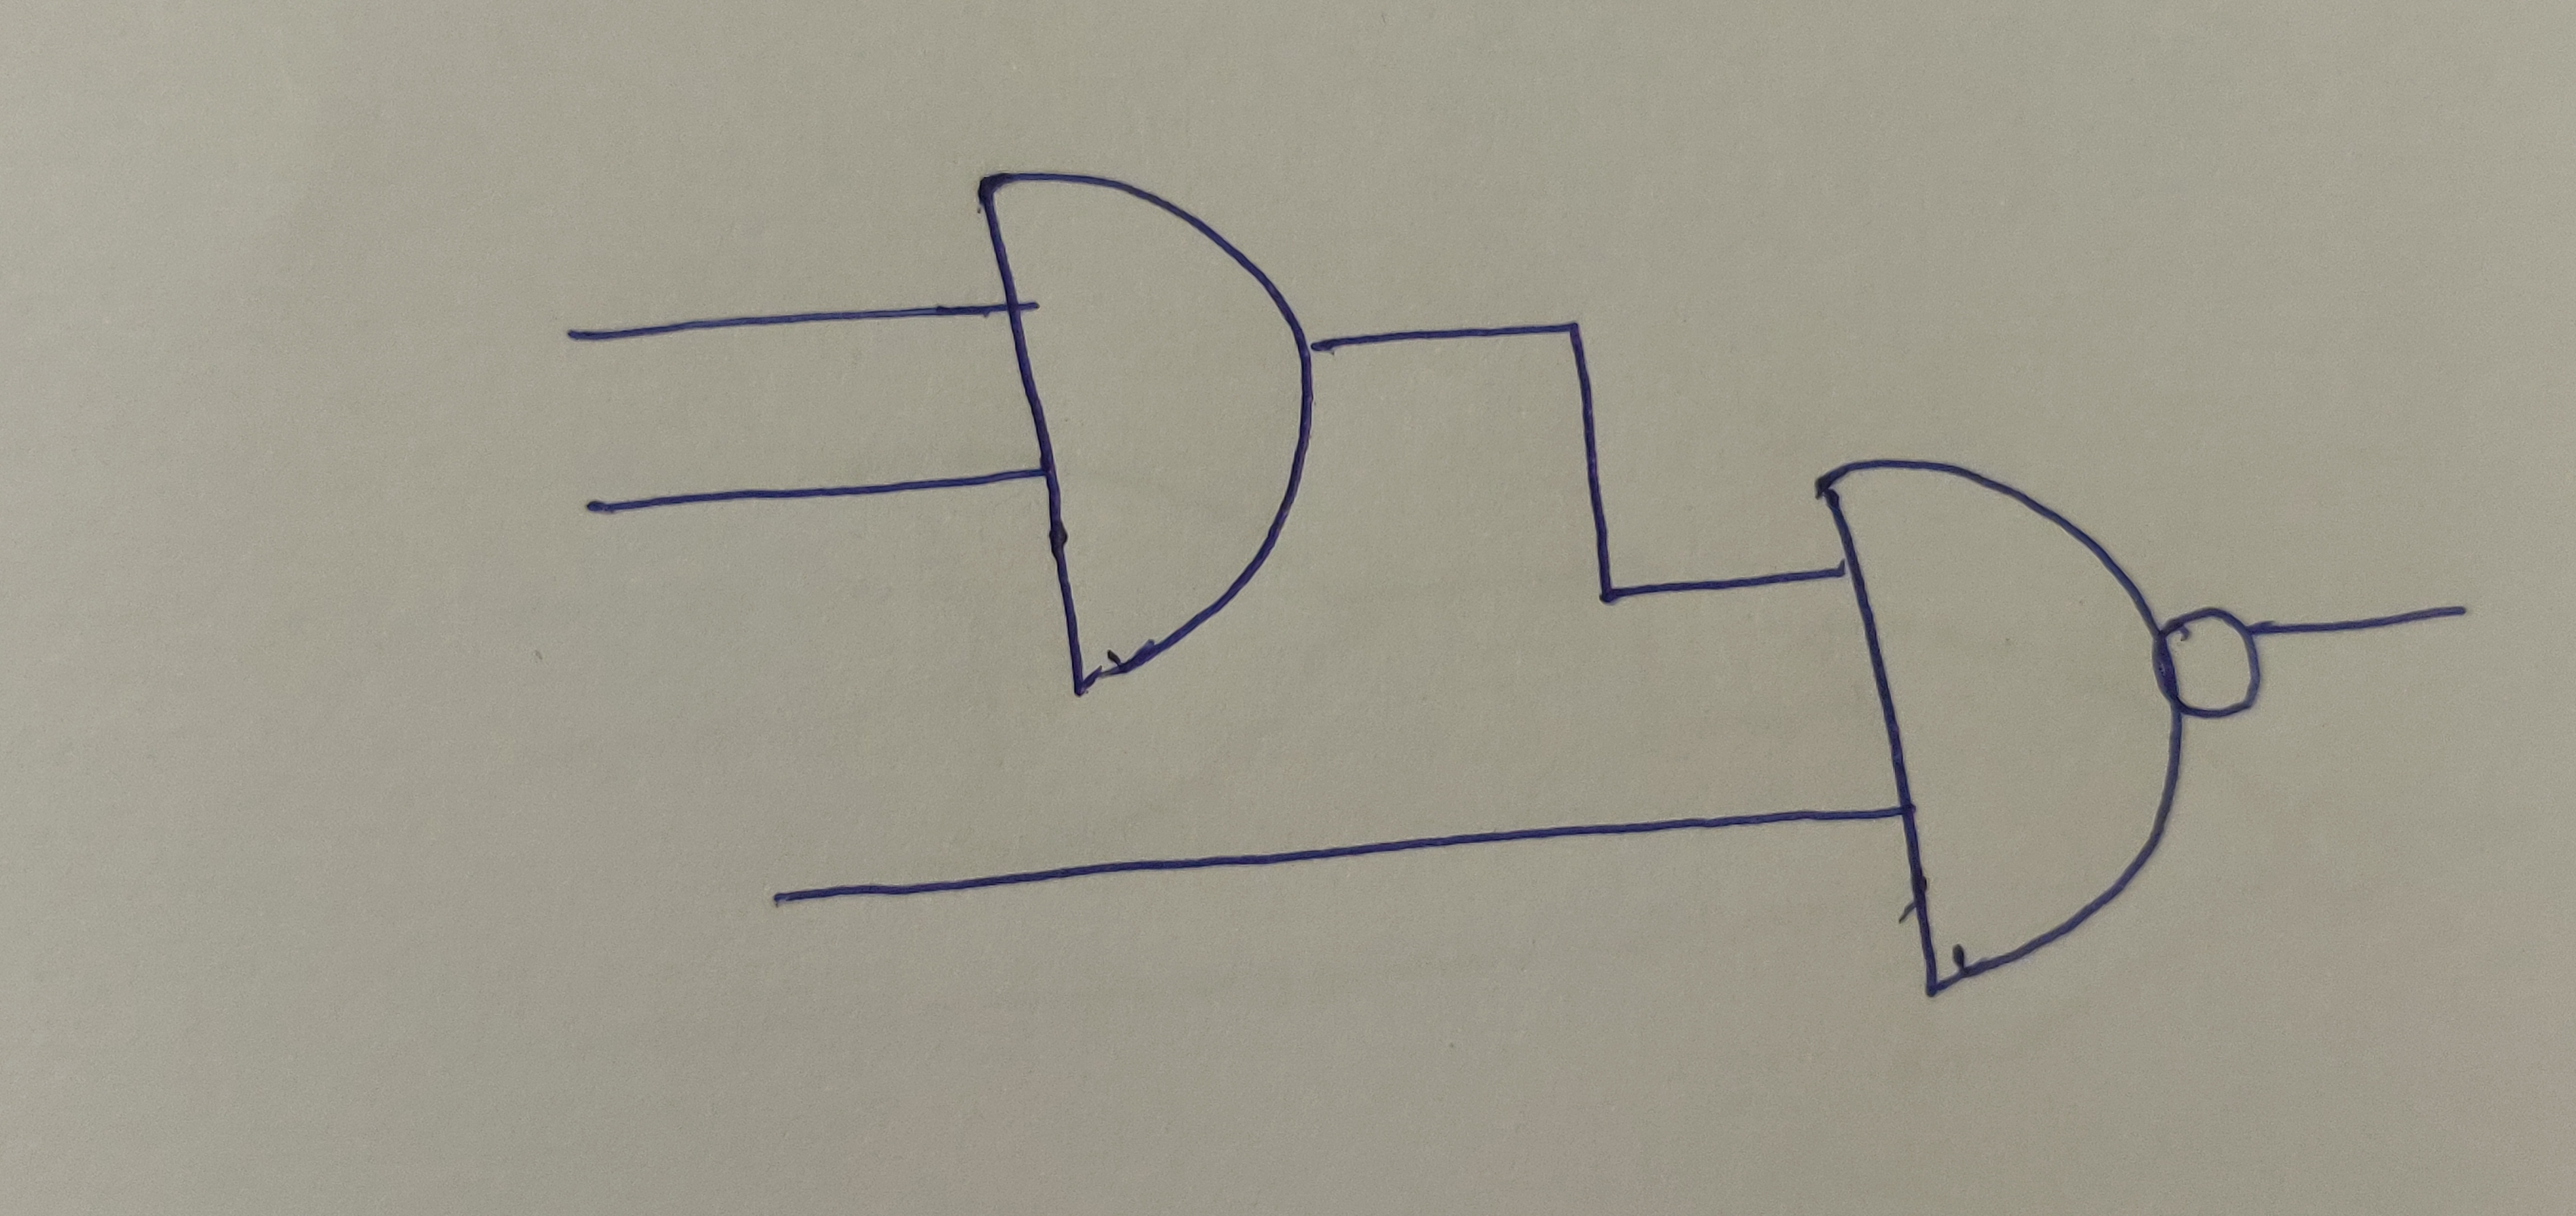and: (1815, 463, 2178, 997), (973, 159, 1318, 693)
not: (2155, 610, 2269, 721)
